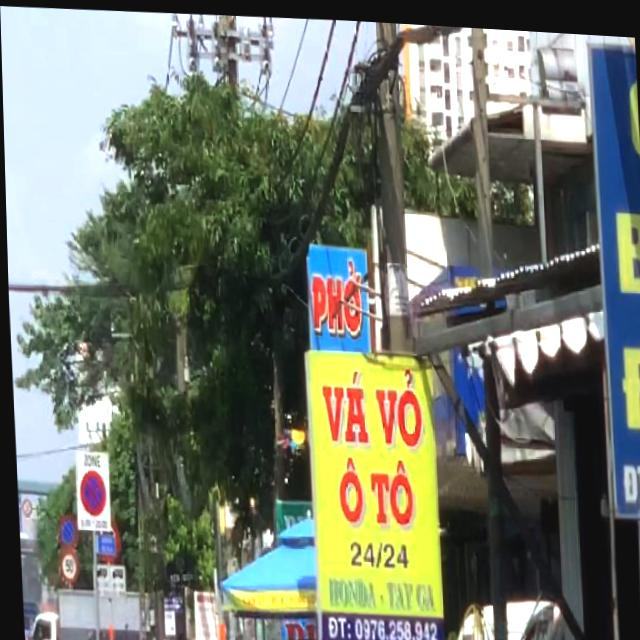Cam do xe: (54, 512, 75, 548)
Cam dung xe va do xe: (76, 468, 104, 515)
Toc do toi da cho phep: (55, 547, 76, 583)
